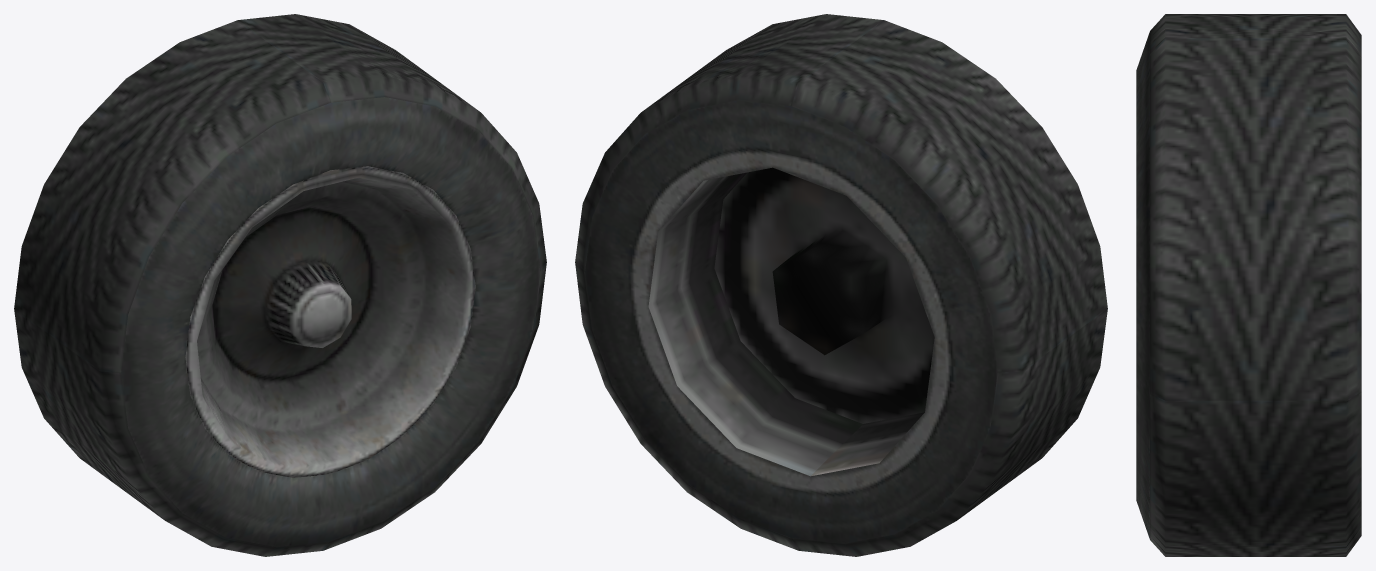
The model's file is V_A_ClassicMuscle_Wheels_7_SkeletalMesh3_SkeletalMesh_10.psk.glb.
3 renders of one model, left to right at view 1: azimuth 30°, elevation 25°; view 2: azimuth 150°, elevation 25°; view 3: azimuth 270°, elevation 25°, orthographic. The views are drawn at different scales.
Bounding box in the file's own units: 67.92 × 67.92 × 28.05.
1 material, 1 textured.
